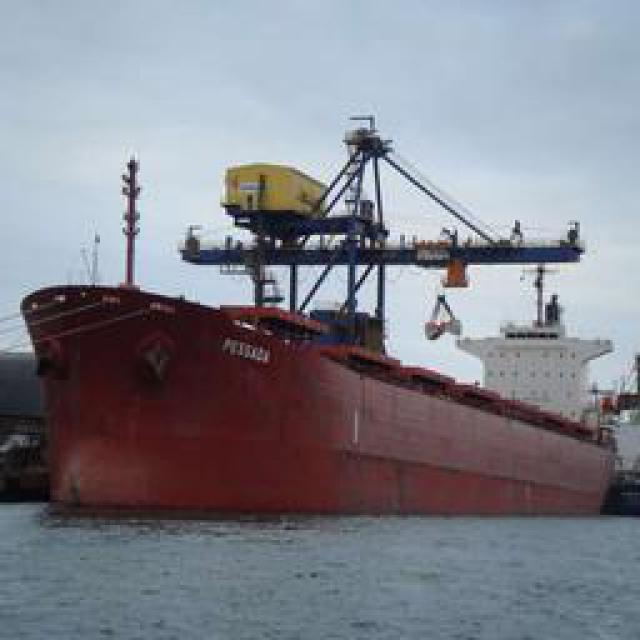Ship: (23, 97, 631, 527)
